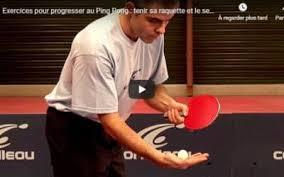ball_pingpong: (178, 149, 188, 160)
